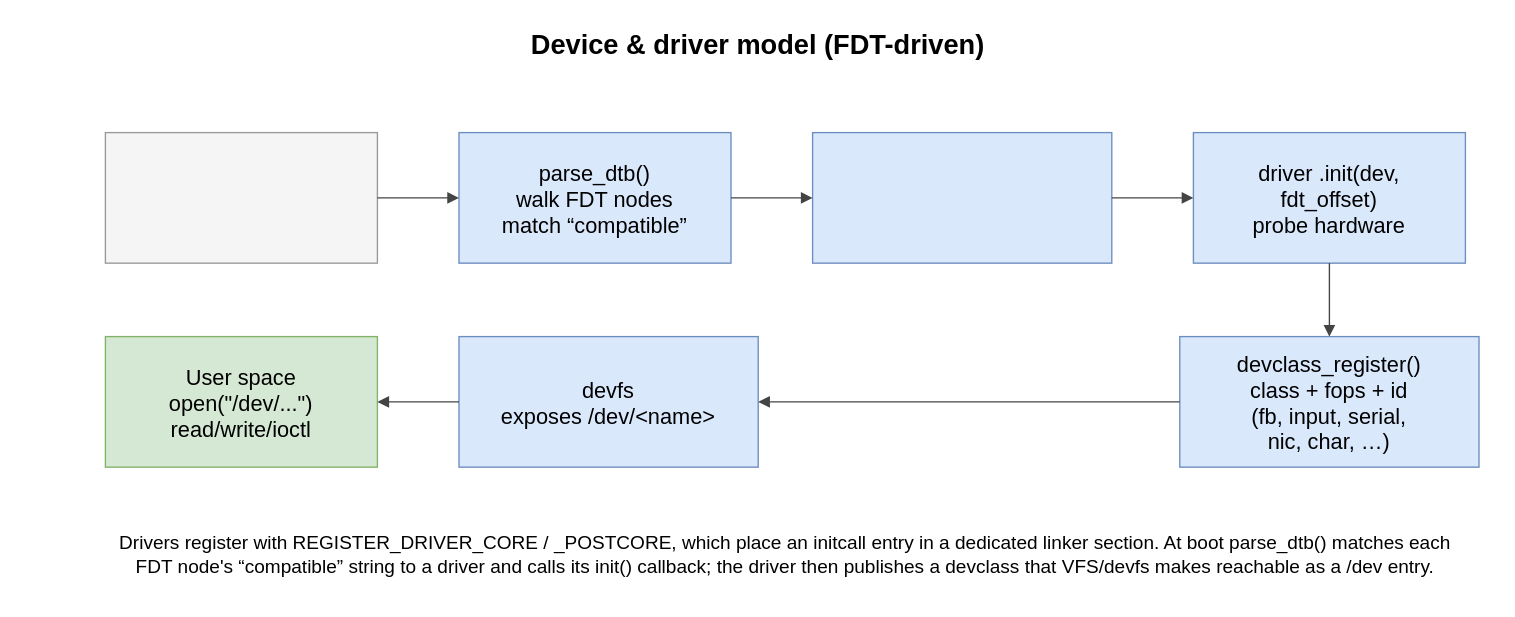
The diagram is 1515 pixels wide and 617 high, and some of its shapes have lost their labels. The centre of each missing label's shape, as x and y in pixels:
"Device Tree blob (dts/*.dtb) loaded by U-Boot" goes at (240,197).
"initcall sections (.initcall_driver_* core / postcore) via ll_entry" goes at (961,197).
